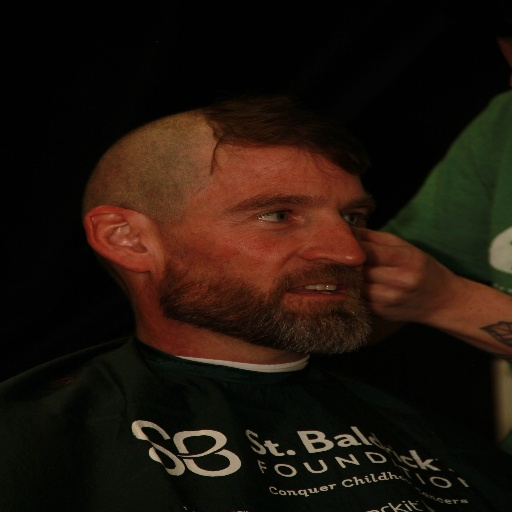hand: (358, 217, 490, 355)
